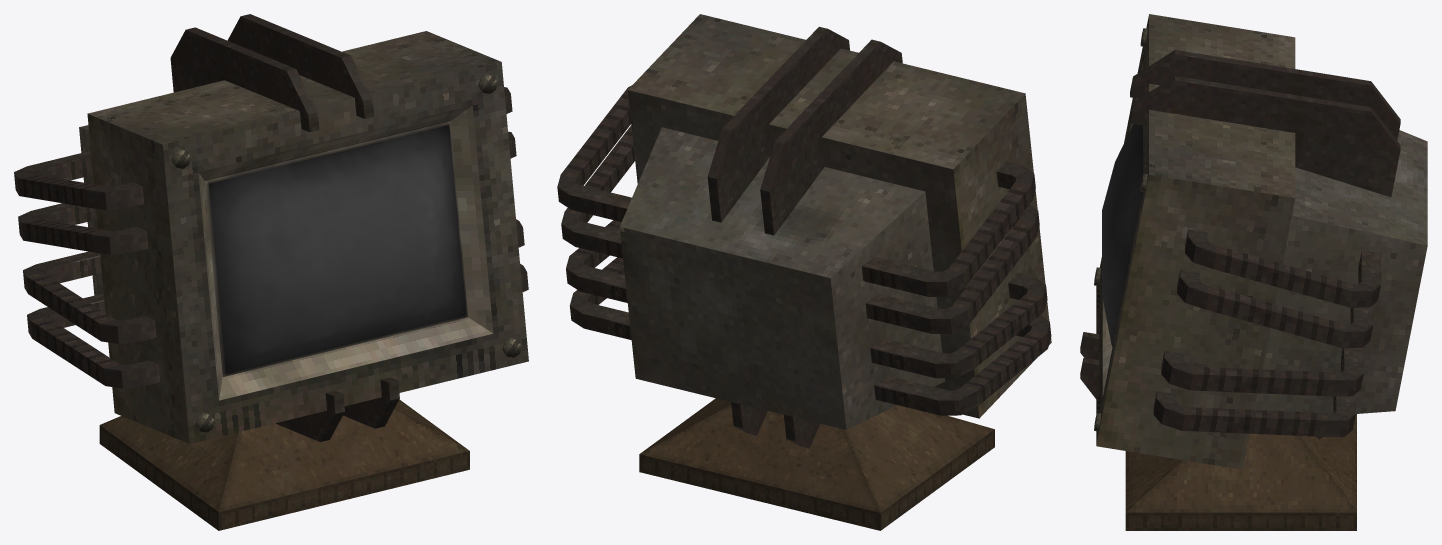
The model's file is screen_etx_1_stand.glb.
3 renders of one model, left to right at view 1: azimuth 30°, elevation 25°; view 2: azimuth 150°, elevation 25°; view 3: azimuth 270°, elevation 25°, orthographic. The views are drawn at different scales.
Visible parts, largest first — view 1: screen_etx_1_whole, screen_etx_1_whole_round_screen, screen_etx_1_stand; view 2: screen_etx_1_whole, screen_etx_1_stand; view 3: screen_etx_1_whole, screen_etx_1_stand, screen_etx_1_whole_round_screen.
Boxes of the visible parts, bbox=[...] form: screen_etx_1_whole: bbox=[14, 14, 528, 443]; screen_etx_1_whole_round_screen: bbox=[205, 121, 468, 376]; screen_etx_1_stand: bbox=[99, 399, 469, 530]; screen_etx_1_whole: bbox=[557, 14, 1051, 448]; screen_etx_1_stand: bbox=[639, 398, 994, 530]; screen_etx_1_whole: bbox=[1080, 14, 1427, 469]; screen_etx_1_stand: bbox=[1125, 414, 1356, 530]; screen_etx_1_whole_round_screen: bbox=[1102, 124, 1142, 346].
Size of the model in its own units: 0.468 by 0.4455 by 0.3454.
Materials: 2 (2 with a texture image).
